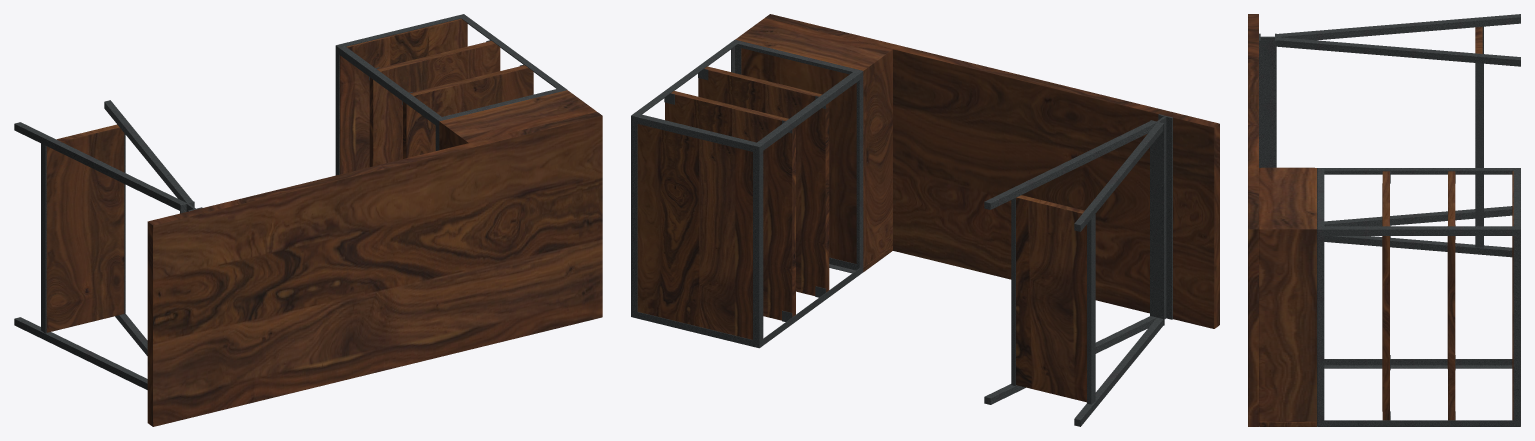
File: loftTable.glb
3 views of the same model, side by side, from view 1: azimuth 30°, elevation 25°; view 2: azimuth 150°, elevation 25°; view 3: azimuth 270°, elevation 25° (orthographic).
Parts seen in each view (by area): view 1: Loft Table N031225; view 2: Loft Table N031225; view 3: Loft Table N031225.
Part boxes in pixels (bbox=[...]): Loft Table N031225: bbox=[14, 14, 602, 426]; Loft Table N031225: bbox=[631, 14, 1219, 426]; Loft Table N031225: bbox=[1248, 14, 1520, 426].
Bounding box in the file's own units: 1400 × 600 × 750.
2 materials, 2 textured.
